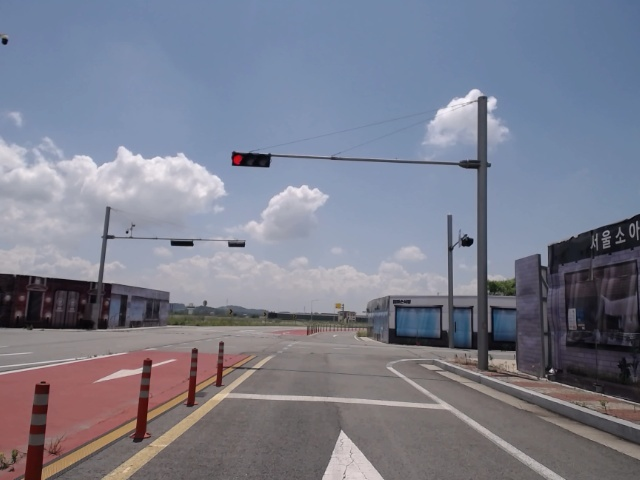red_3: (230, 150, 271, 169)
